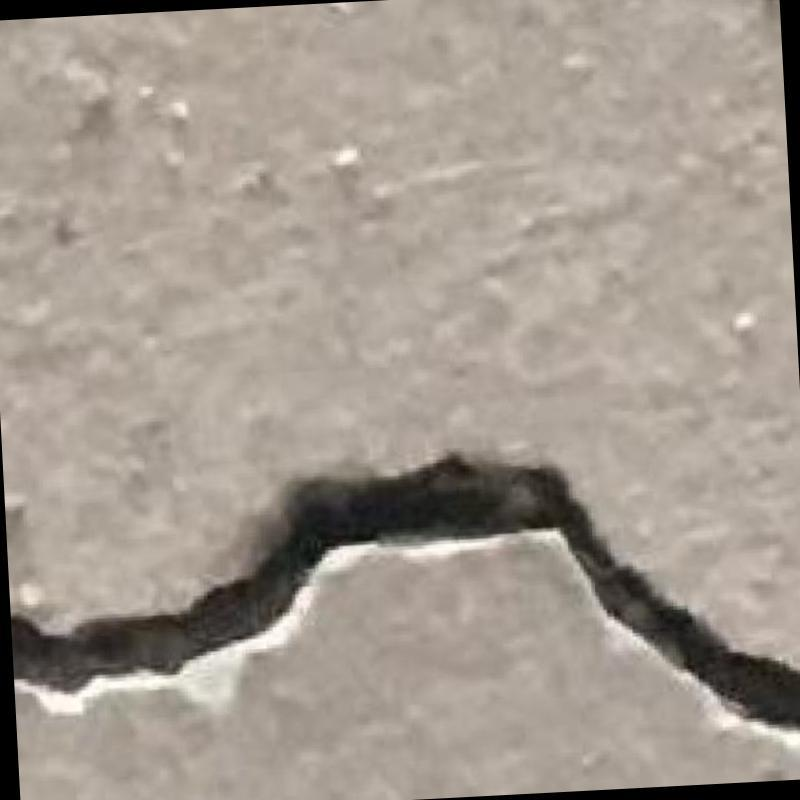pothole: (11, 455, 800, 732)
